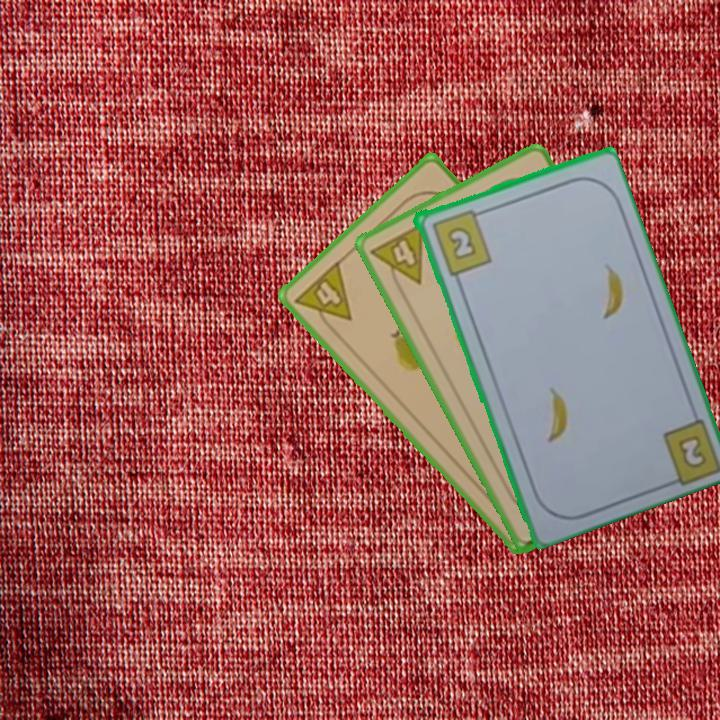2b: (428, 205, 494, 278), (674, 431, 709, 472)
4p: (291, 257, 355, 338), (367, 219, 427, 297)
